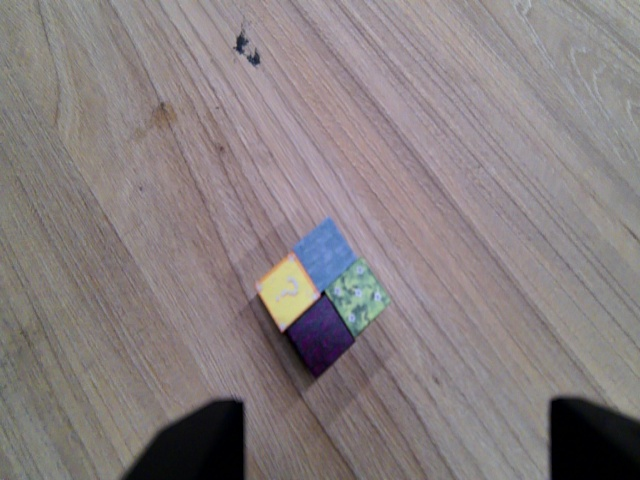brick: (289, 294, 356, 379), (320, 379, 322, 390)
grass: (324, 264, 391, 340)
lucky: (252, 253, 318, 332)
stone: (295, 219, 357, 292)
